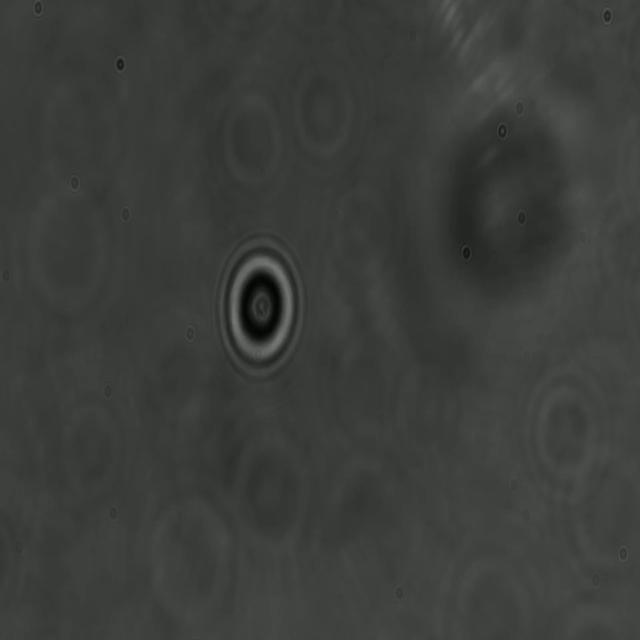LCELL: (212, 228, 308, 386)
